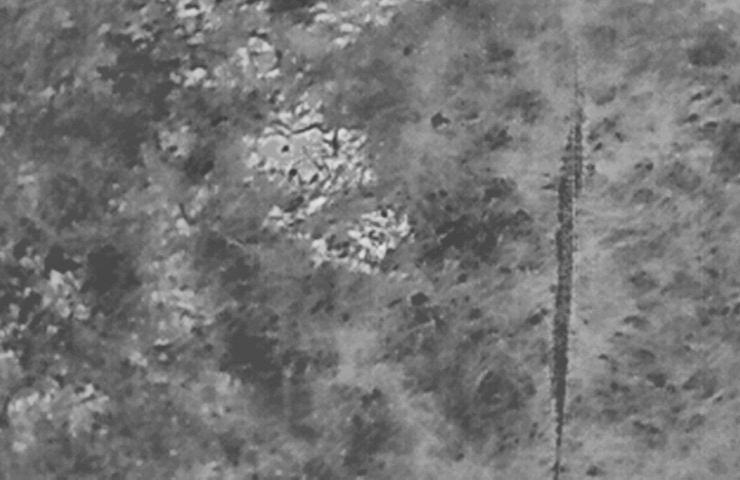landmines: (246, 100, 376, 198)
